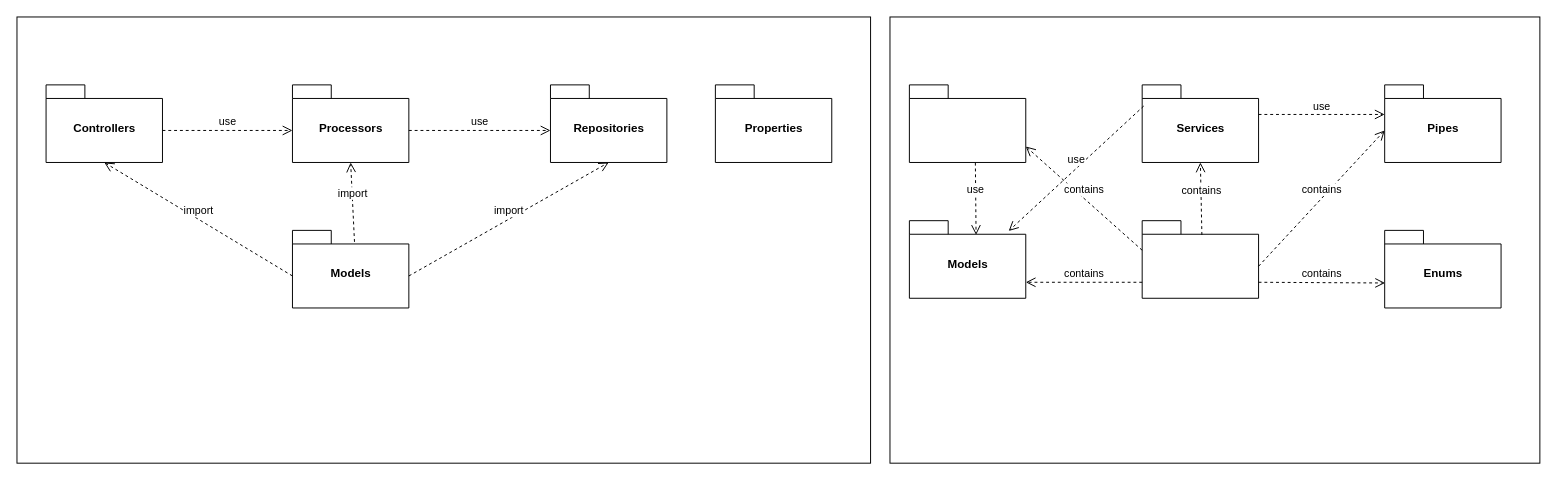
Image size: 1557x480. Some labels were removed from this diagram. The shapes that lost their labels are listed below. From the top down, each one's box as (x1, y1, x2, y2) in pixels, then its label:
(908, 84, 1026, 162): Components
(16, 16, 871, 463): Backend
(1141, 220, 1259, 298): Modules
(889, 16, 1540, 463): Frontend
